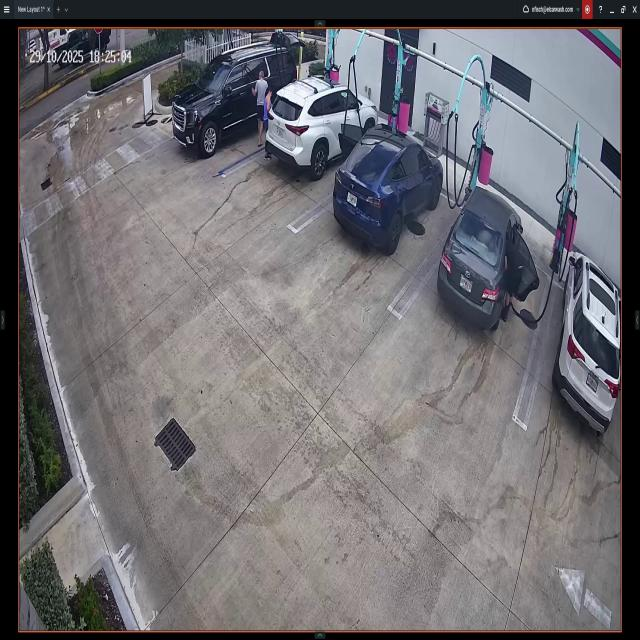Car: (439, 185, 535, 328), (337, 125, 444, 249), (172, 44, 297, 150), (554, 252, 620, 429), (266, 79, 378, 177)
